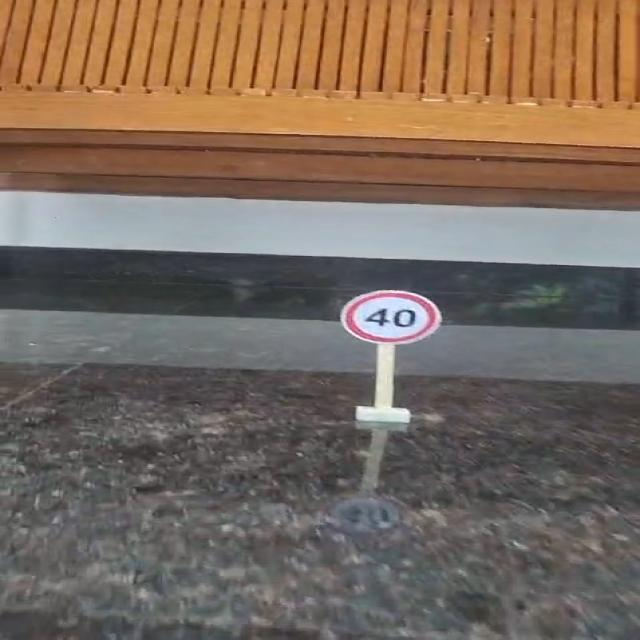Speed40: (336, 288, 447, 346)
